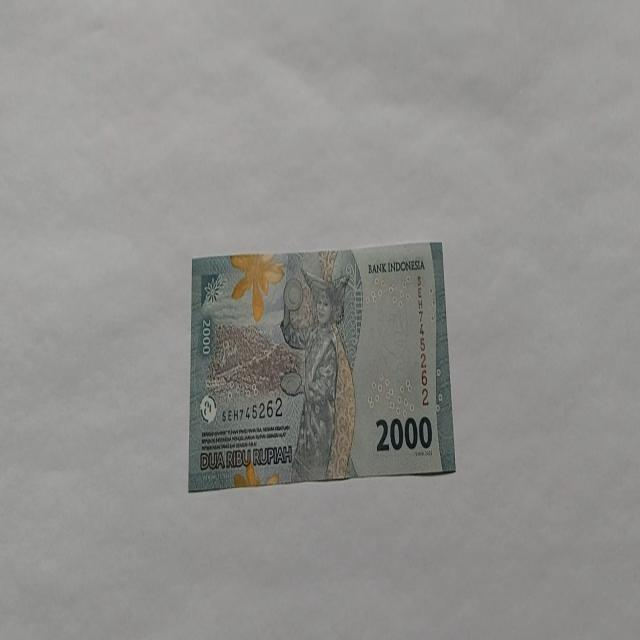dua ribu rupiah: (188, 239, 456, 491), (279, 265, 357, 483)
